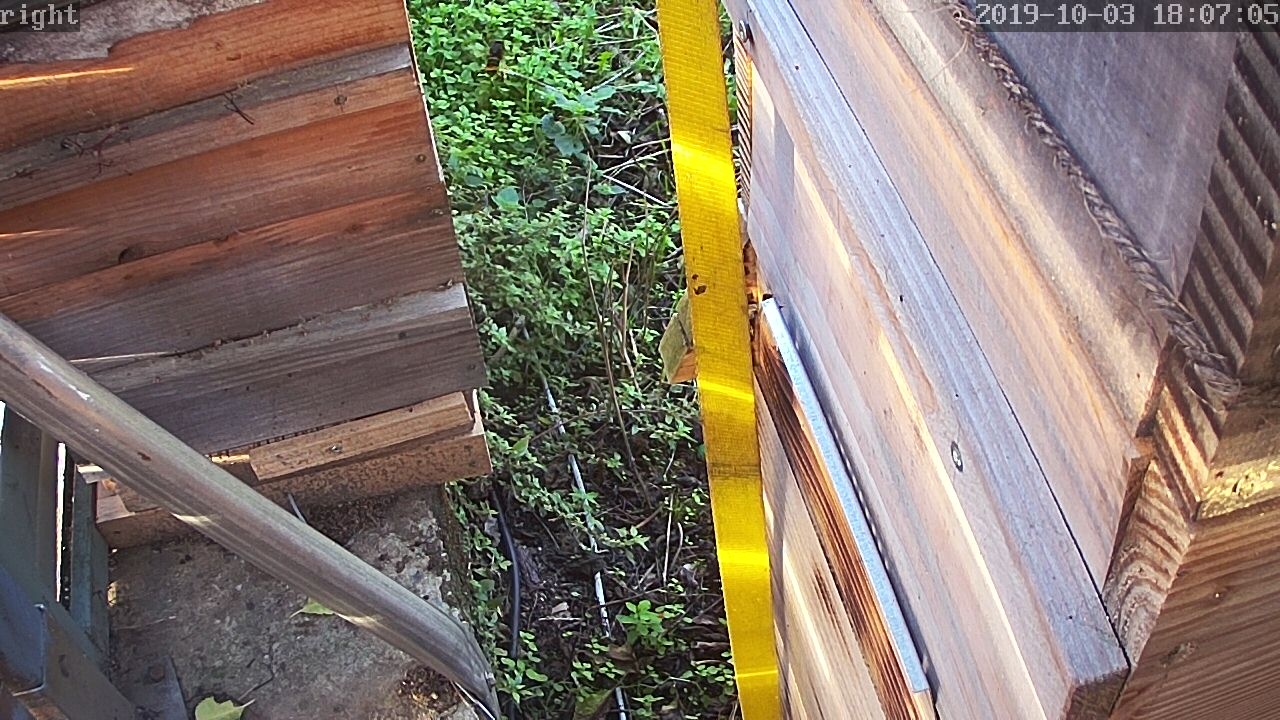hornet: (481, 32, 510, 82)
